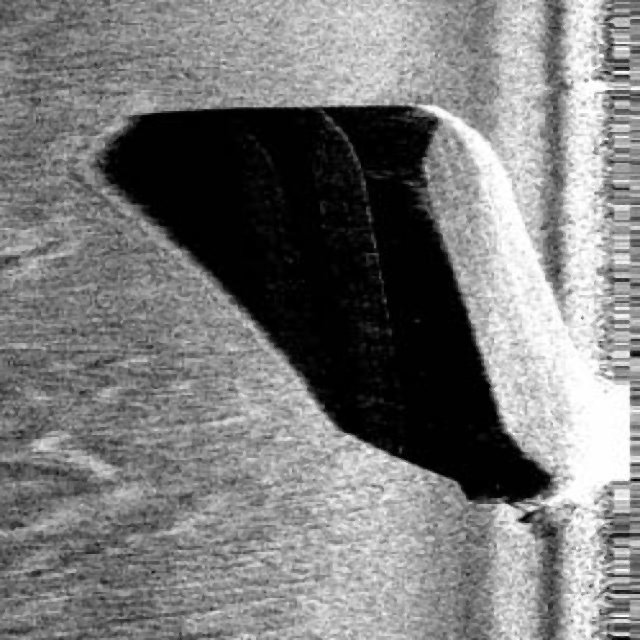Ship: (306, 91, 640, 527)
